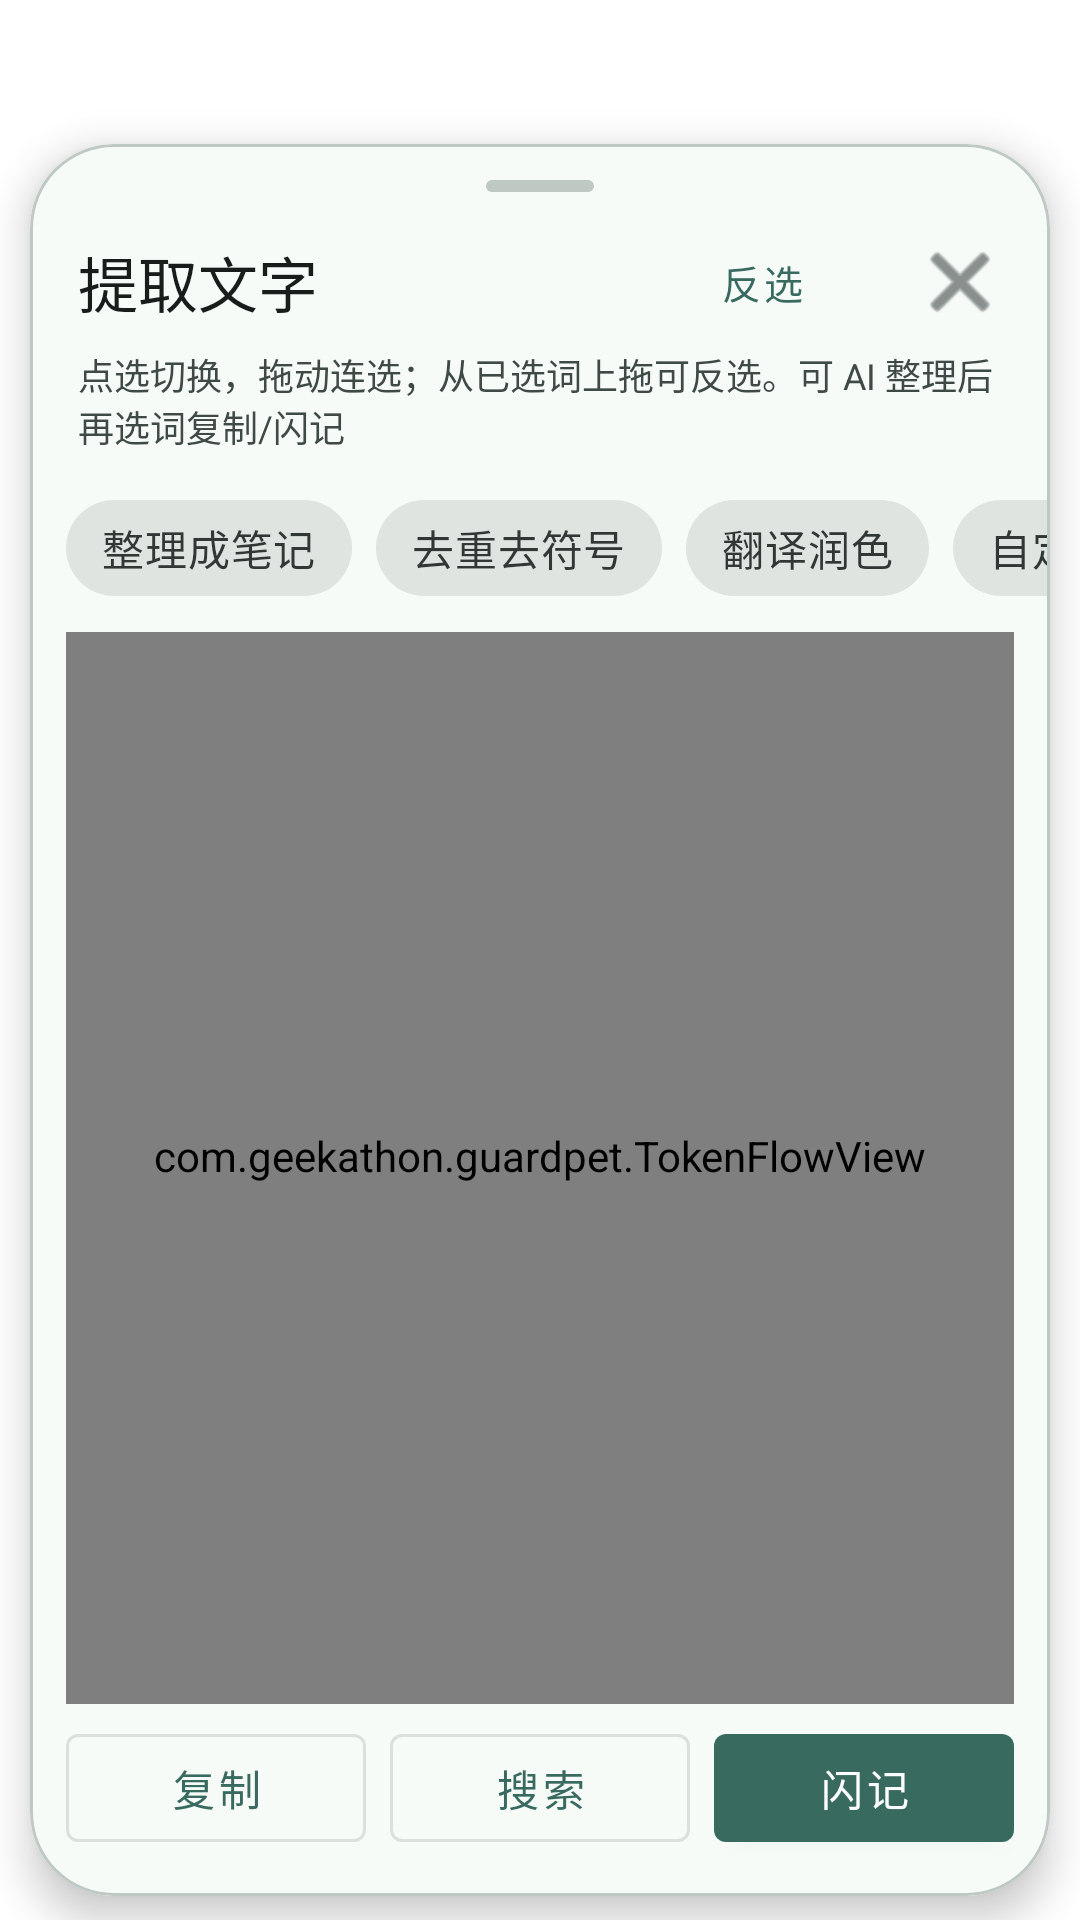

Icons on this 1080×1920 Android screen, each with the point to tap as (x,y):
关闭菜单: (960,282)
